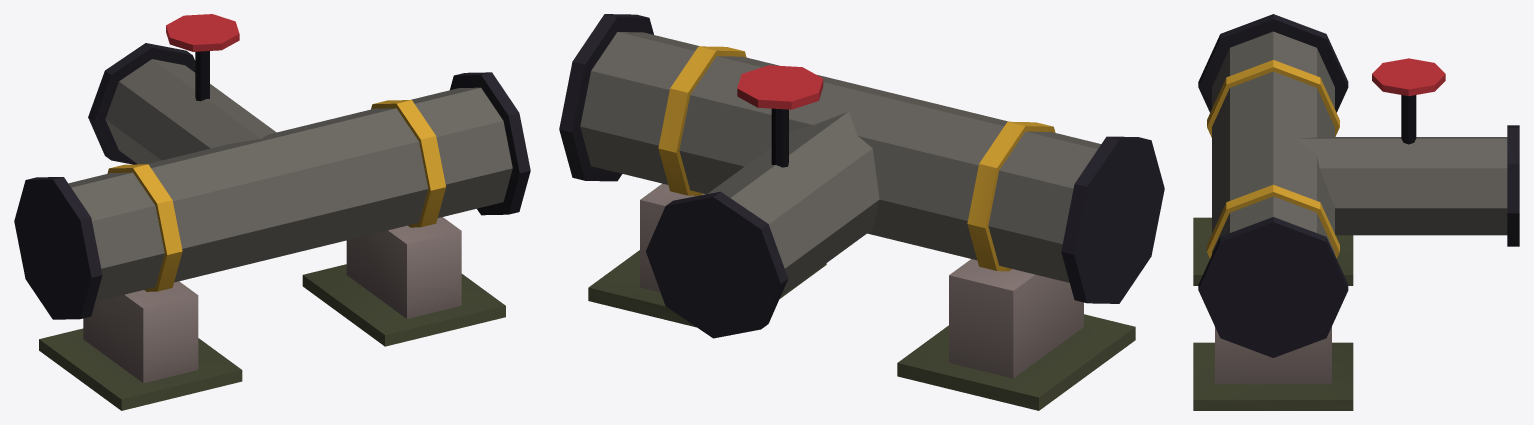
3 renders of one model, left to right at view 1: azimuth 30°, elevation 25°; view 2: azimuth 150°, elevation 25°; view 3: azimuth 270°, elevation 25°, orthographic. The views are drawn at different scales.
Visible parts, largest first — view 1: body_pal_picketWhite; view 2: body_pal_picketWhite; view 3: body_pal_picketWhite.
Boxes of the visible parts, x1,y1,x2,y2 form: body_pal_picketWhite: [14, 14, 530, 410]; body_pal_picketWhite: [559, 14, 1164, 410]; body_pal_picketWhite: [1193, 14, 1519, 410].
Size of the model in its own units: 8 by 4.41 by 5.3.
